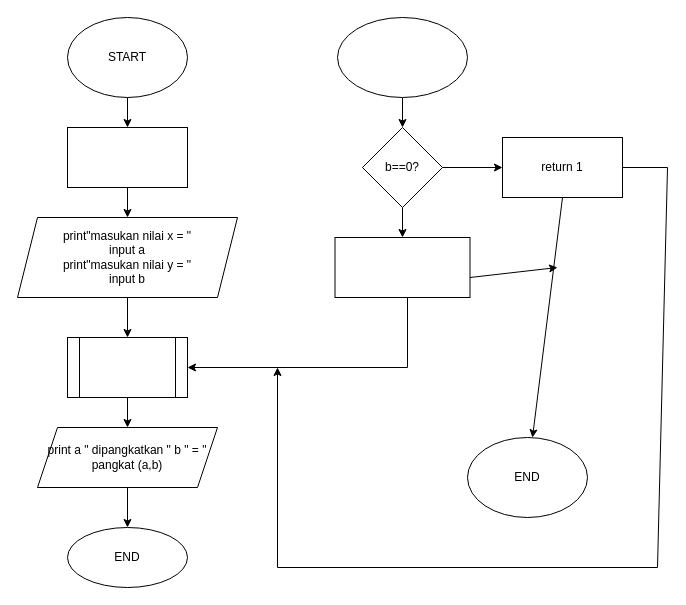
Some shapes in this 686 by 605 pixel diagram are drawn without their labels. Each missing label, with the centre of its shape:
"int a,b" belongs at pixel 127 157.
"int pangkat (int a, int b" belongs at pixel 402 57.
"pangkat(a,b)" belongs at pixel 127 367.
"return a*pangkat(a, b-1)" belongs at pixel 402 267.
